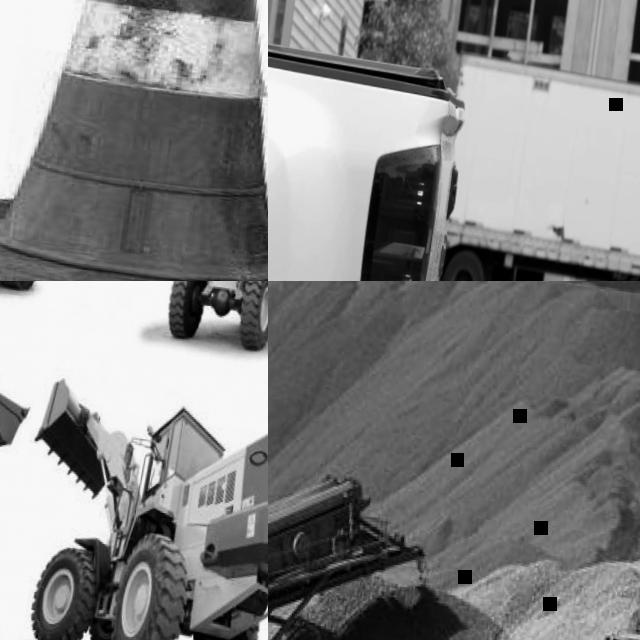Safety Cone: (0, 0, 268, 281)
machinery: (7, 364, 268, 640), (268, 453, 432, 640), (121, 281, 268, 403)
vehicle: (268, 25, 547, 281)
